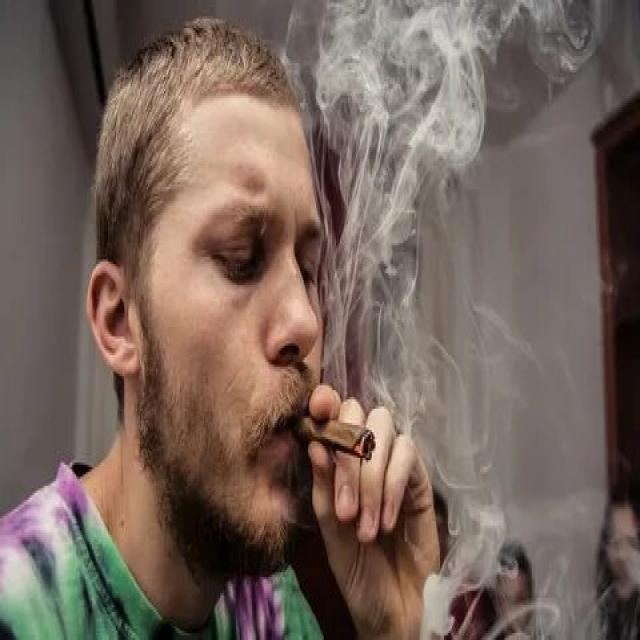cigarette: (288, 404, 381, 463)
